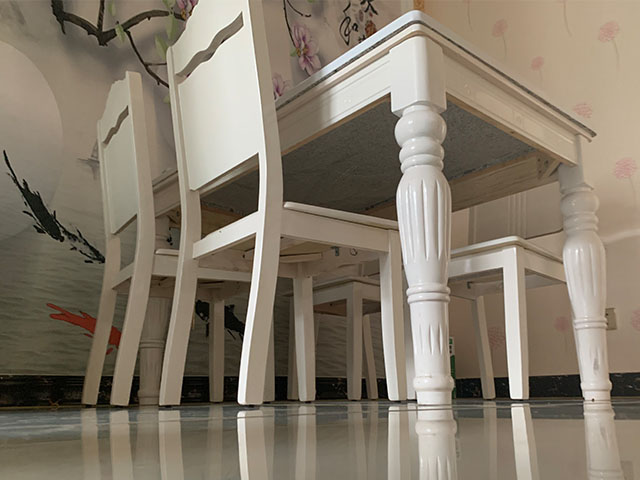stool: (154, 1, 410, 411), (79, 69, 277, 408), (444, 179, 584, 401), (282, 251, 419, 403)
table: (137, 7, 614, 407)
